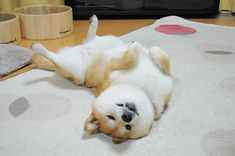doge: (82, 82, 155, 149)
